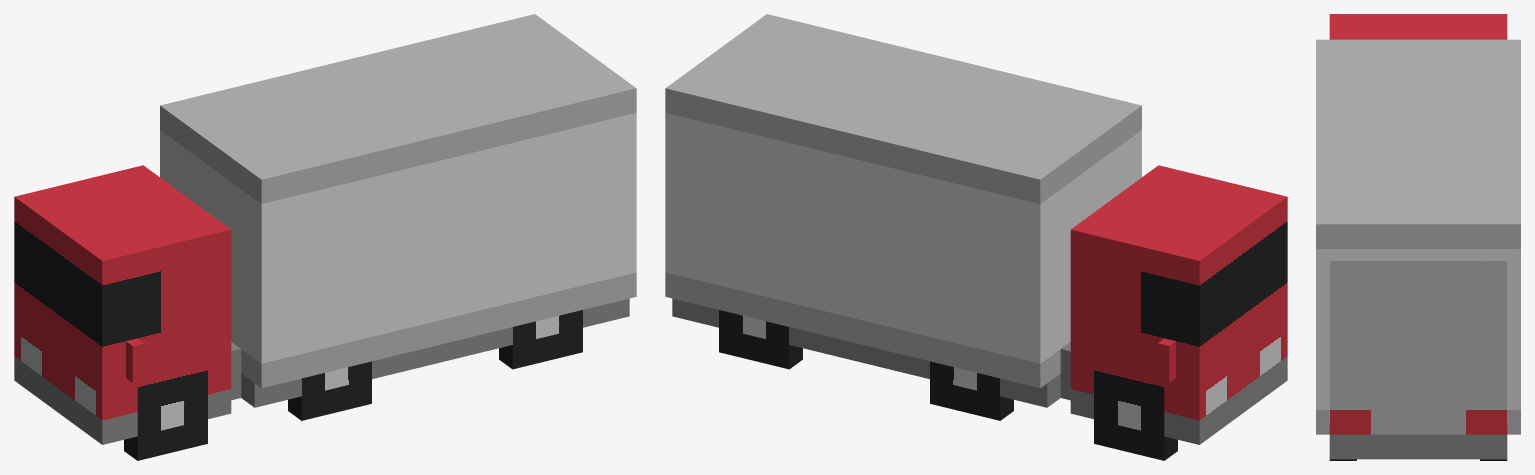
Rendered from veh_truck_red.dae.
3 views of the same model, side by side, from view 1: azimuth 30°, elevation 25°; view 2: azimuth 150°, elevation 25°; view 3: azimuth 270°, elevation 25° (orthographic).
Parts seen in each view (by area): view 1: veh_truck_red; view 2: veh_truck_red; view 3: veh_truck_red.
Boxes of the visible parts, x1,y1,x2,y2 form: veh_truck_red: [14, 14, 636, 460]; veh_truck_red: [665, 14, 1287, 460]; veh_truck_red: [1316, 14, 1520, 460].
Bounding box in the file's own units: 4.5 × 2.1 × 1.5.
